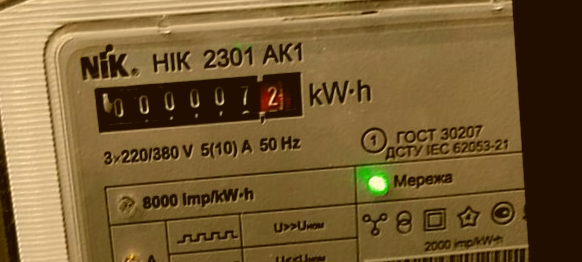0: (186, 86, 202, 110), (110, 94, 125, 119), (211, 83, 226, 107), (162, 89, 176, 113), (136, 92, 150, 115)
2: (264, 84, 279, 108)
7: (237, 82, 251, 106)
screen: (82, 61, 313, 142)
